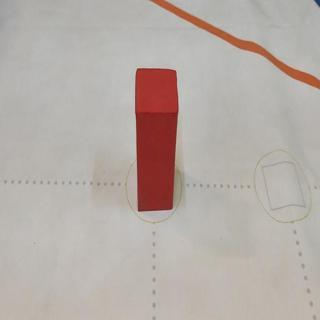redbox: (134, 66, 179, 213)
